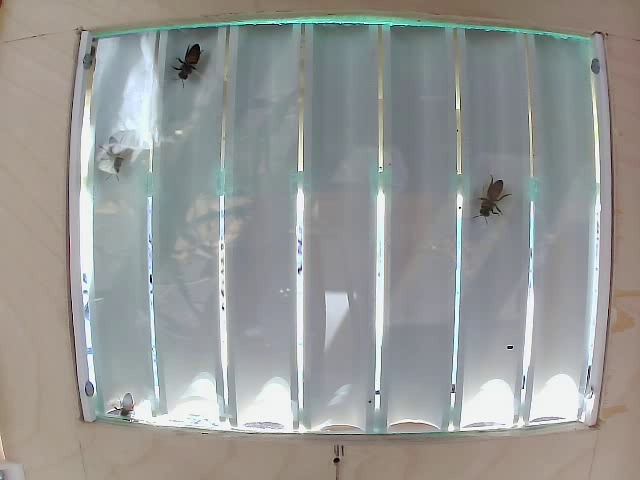bee: (105, 125, 135, 174), (481, 172, 511, 216), (178, 36, 206, 76)
